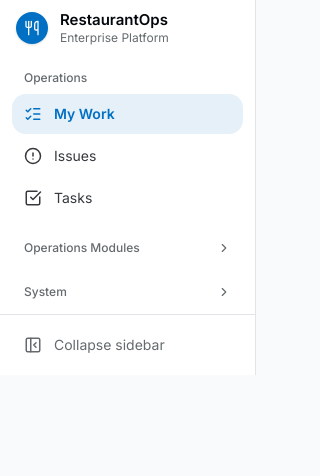
it: Sidebar › keeps the core workflow open and folds the other groups
Check: the button "Issues" is shown, box [12,136,243,176]
Check: the button "CMMS" is not shown
Click the button "Operations Modules" at (128,248), box [12,234,243,262]
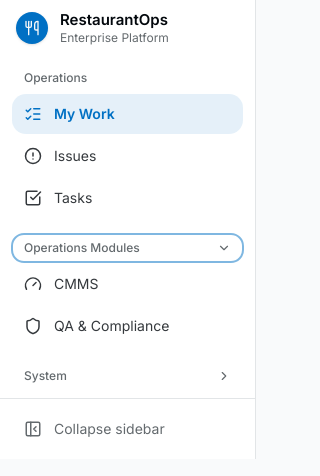
Check: the button "Operations Modules" is expanded, box [12,234,243,262]
Check: the button "CMMS" is shown, box [12,264,243,304]
